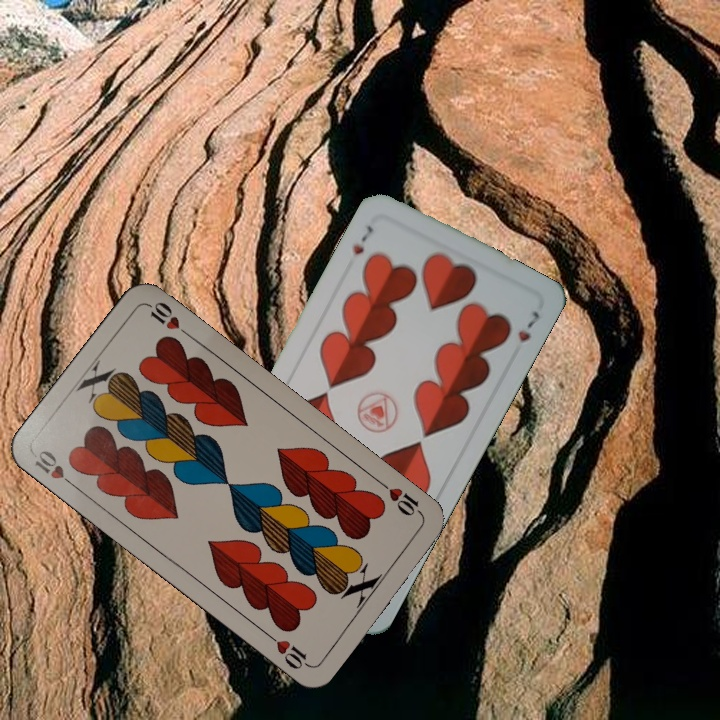H10: (30, 446, 80, 492), (375, 477, 426, 519)
H7: (348, 221, 377, 258)
